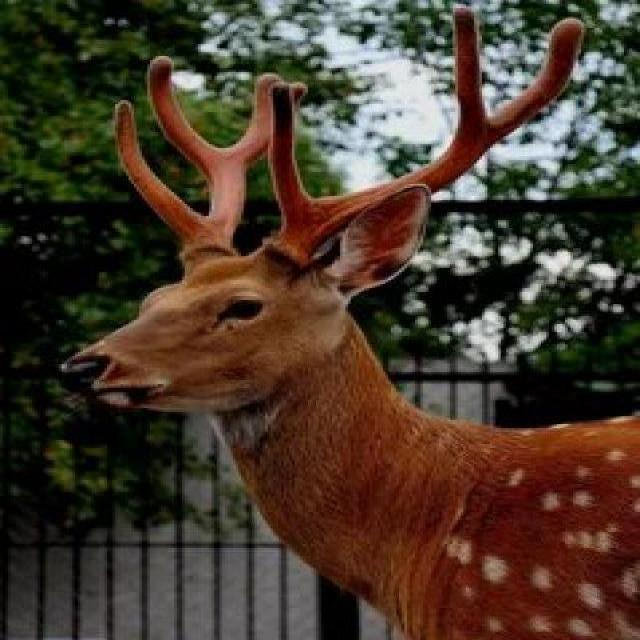deer: (73, 88, 612, 568)
